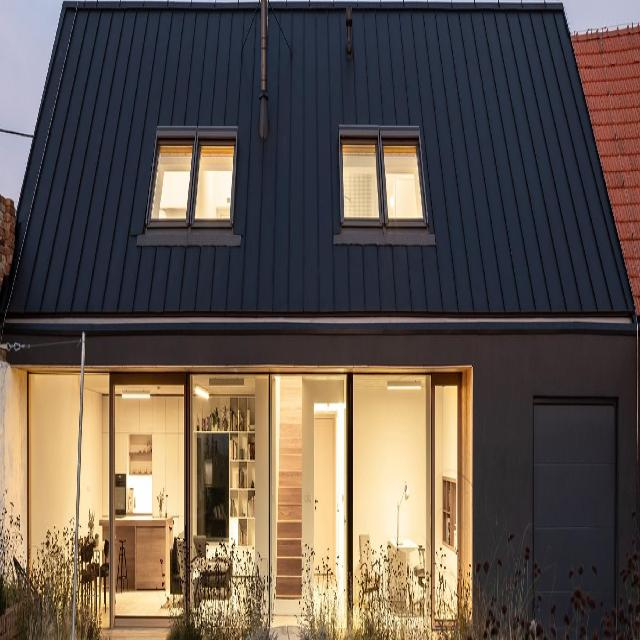door: (107, 365, 194, 631), (430, 378, 462, 631)
window: (29, 363, 463, 633), (150, 135, 235, 220), (342, 135, 425, 219)
